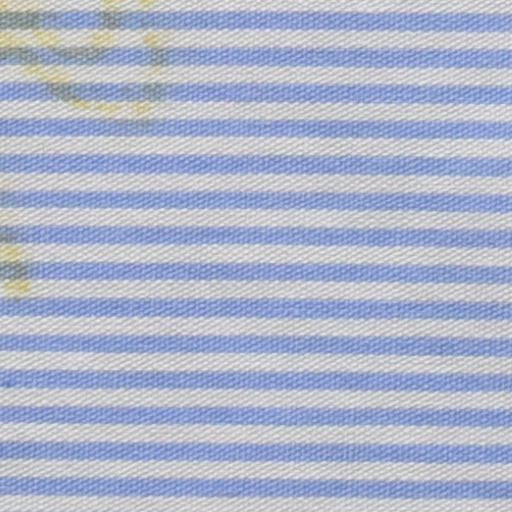defect: (1, 1, 170, 276)
